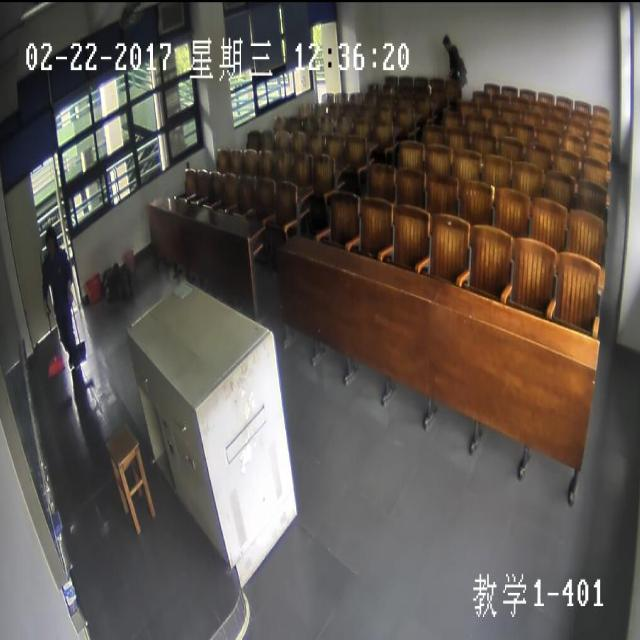person: (43, 222, 58, 250), (441, 30, 451, 48)
